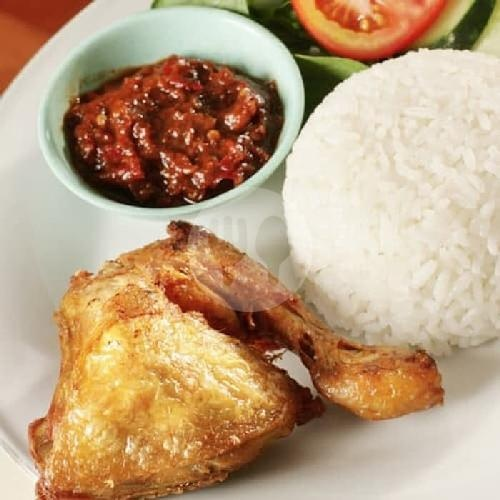ayam_goreng: (27, 220, 445, 499)
